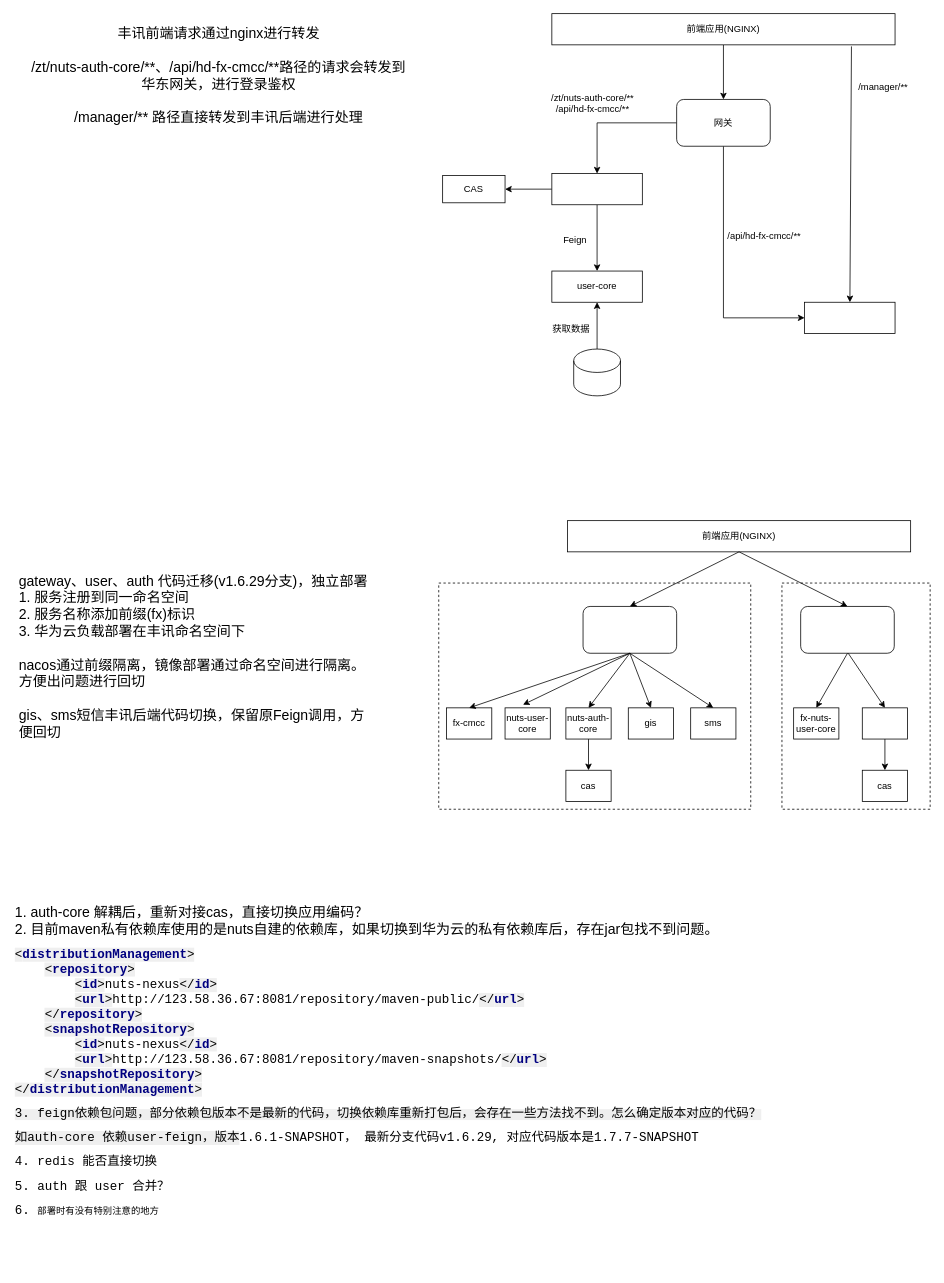
The diagram is 944 pixels wide and 1283 high, and some of its shapes have lost their labels. Here are the shapes that lost their labels. From the top down, the centre of each, then its label:
At point 596,189: "auth-core".
At point 849,317: "丰讯后端".
At point 596,372: "DB".
At point 629,629: "原网关 (nuts-cloud-cloud)".
At point 847,629: "新网关 (fx-nuts-cloud-cloud)".
At point 885,723: "fx-nuts-auth-core".
